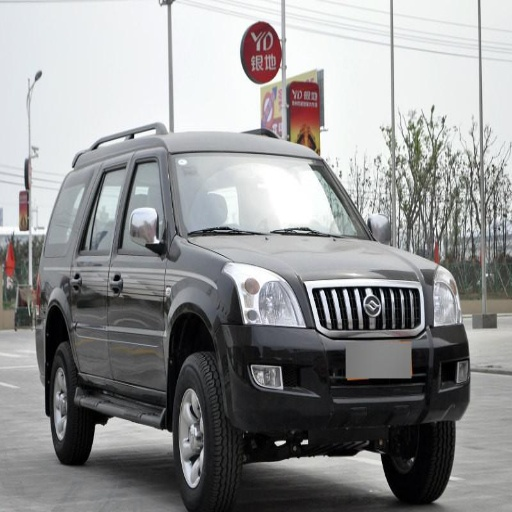back_bumper: (57, 166, 95, 219)
back_left_light: (66, 155, 132, 380)
back_right_light: (225, 281, 469, 429)
front_bumper: (174, 154, 367, 238)
front_left_door: (434, 271, 460, 325)
front_left_light: (111, 152, 168, 390)
front_right_door: (241, 268, 305, 326)
front_right_light: (200, 238, 437, 283)
trunk: (171, 353, 240, 511), (383, 423, 453, 502), (48, 343, 93, 465)
